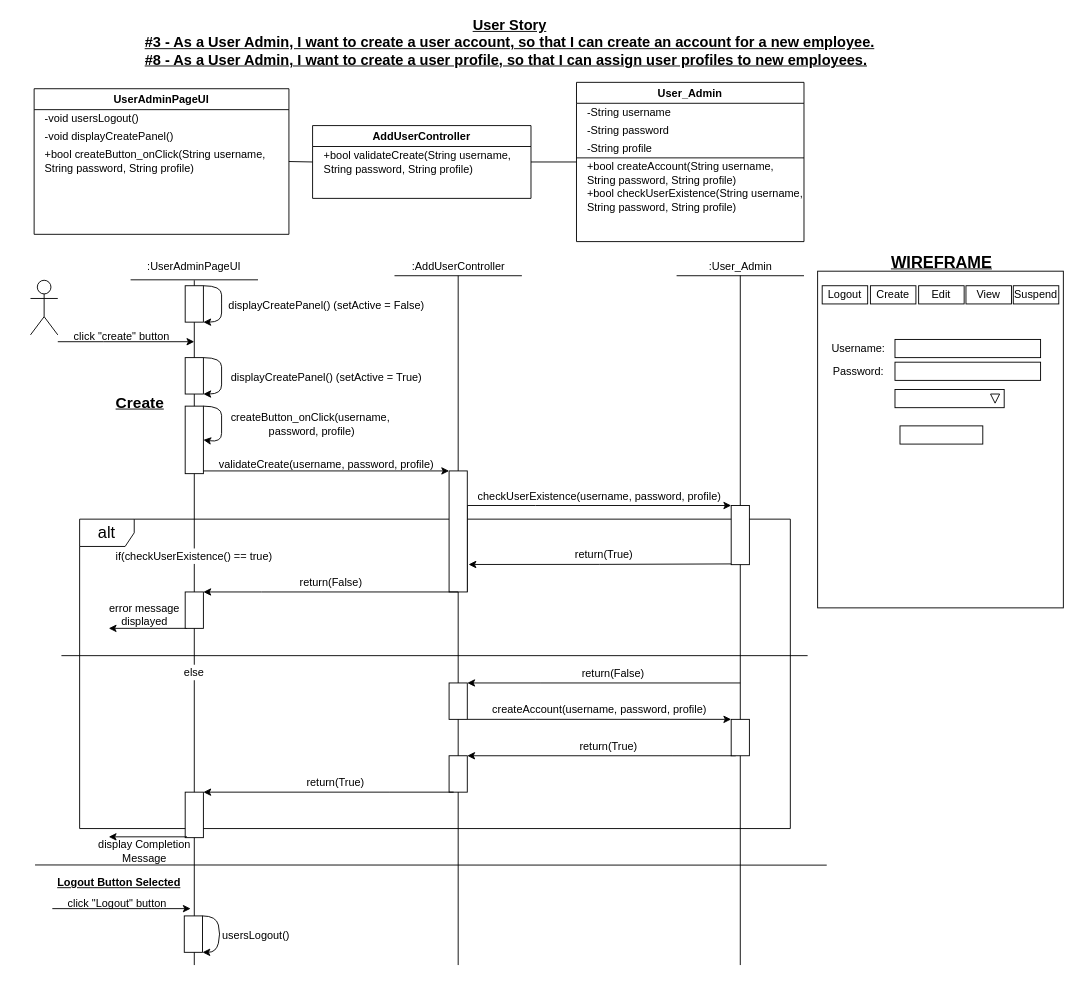
This 1079x982 diagram has some shape labels left out. Each missing label, with the centre of its shape:
Create Account: [941,434]
Profile: [949,398]
User Admin: [44,307]
